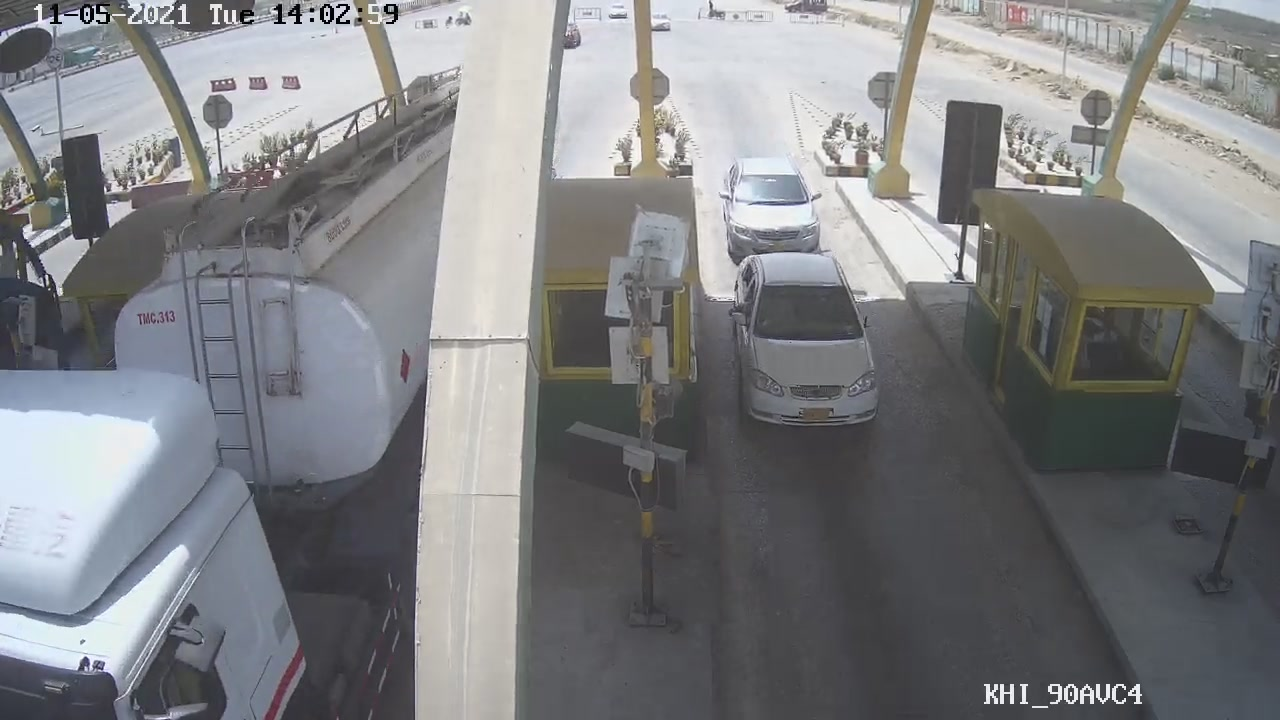F1: (722, 251, 894, 429)
